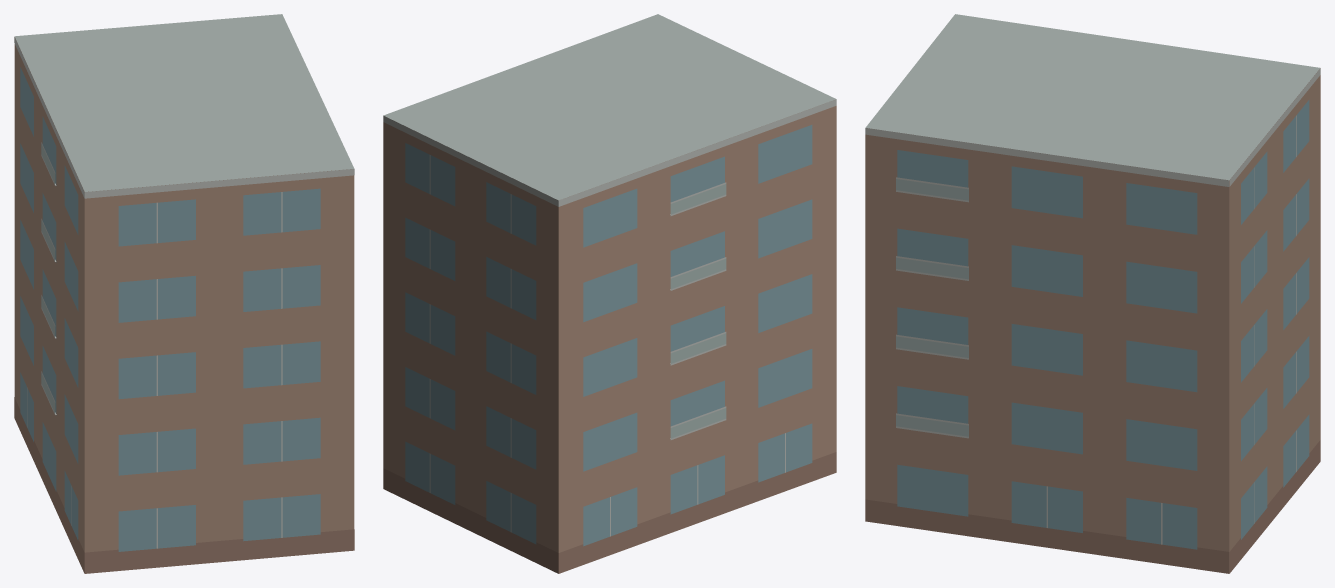
The model's file is survey-upis-32875187.glb.
3 renders of one model, left to right at view 1: azimuth 30°, elevation 25°; view 2: azimuth 150°, elevation 25°; view 3: azimuth 270°, elevation 25°, orthographic. The views are drawn at different scales.
Parts seen in each view (by area): view 1: survey-upis-32875187.tmp; view 2: survey-upis-32875187.tmp; view 3: survey-upis-32875187.tmp.
Part boxes in pixels (x1,y1,x2,y2): survey-upis-32875187.tmp: (14,14,354,573); survey-upis-32875187.tmp: (383,14,836,573); survey-upis-32875187.tmp: (865,14,1320,573).
Size of the model in its own units: 12.79 by 14.1 by 14.79.
